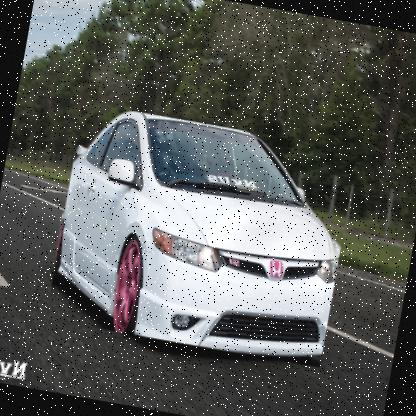Car: (44, 102, 357, 368)
